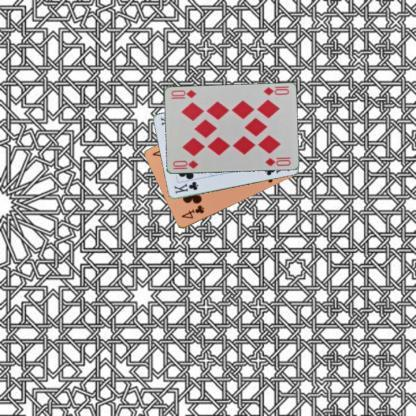10d: (170, 158, 199, 170), (261, 85, 290, 97)
4c: (178, 202, 206, 220)
Kc: (172, 179, 200, 195)
